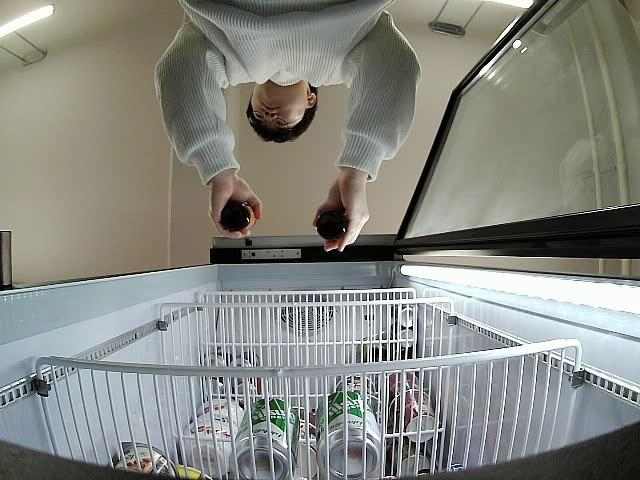17_vita500: (222, 200, 256, 232), (316, 208, 348, 242)
